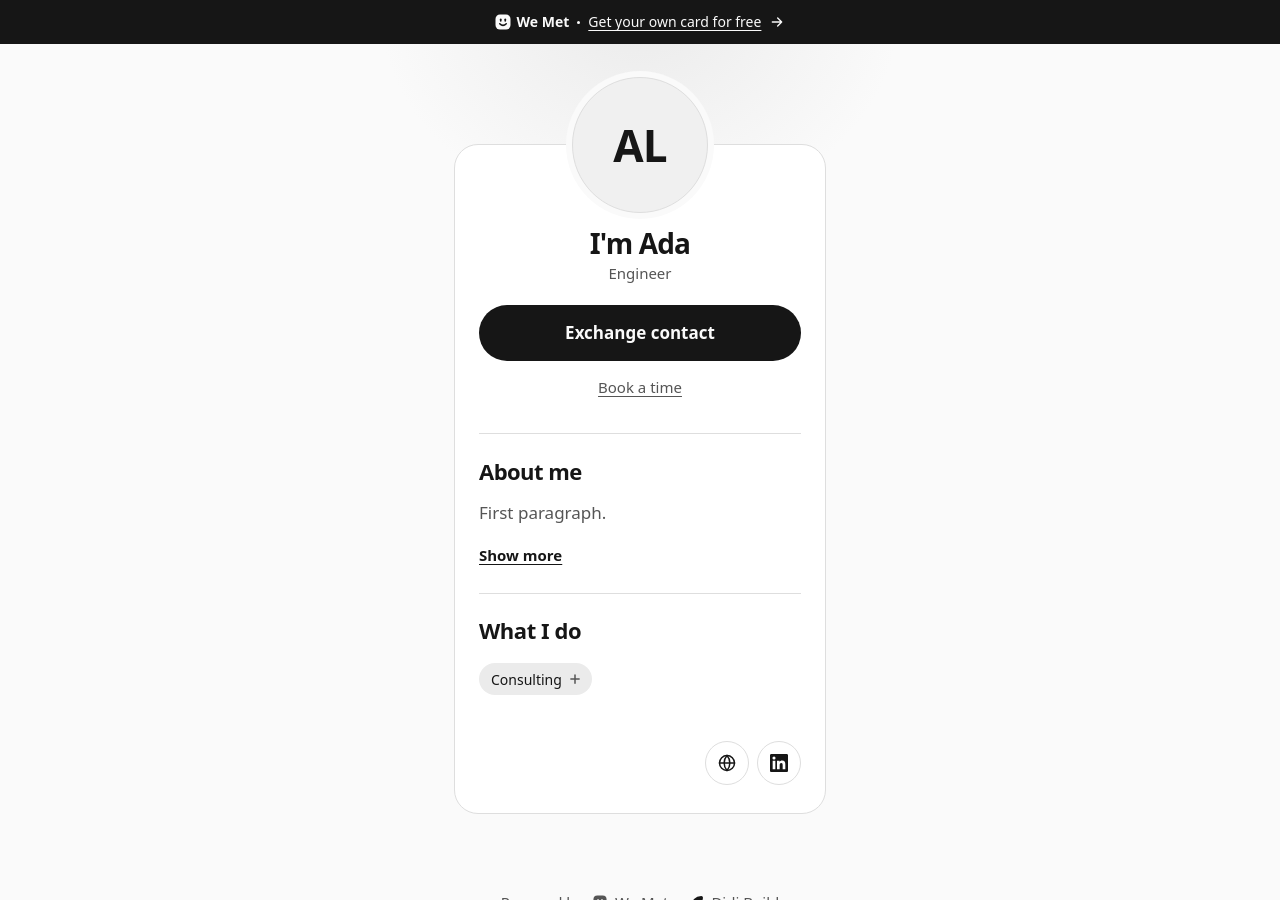
Scenario: AppCardPreview interaction (integration) › toggles About show more and show less
Expected: the text "Second paragraph for show more." is not shown
Click the button "Show more".
click(521, 555)  # box [479,533,562,577]
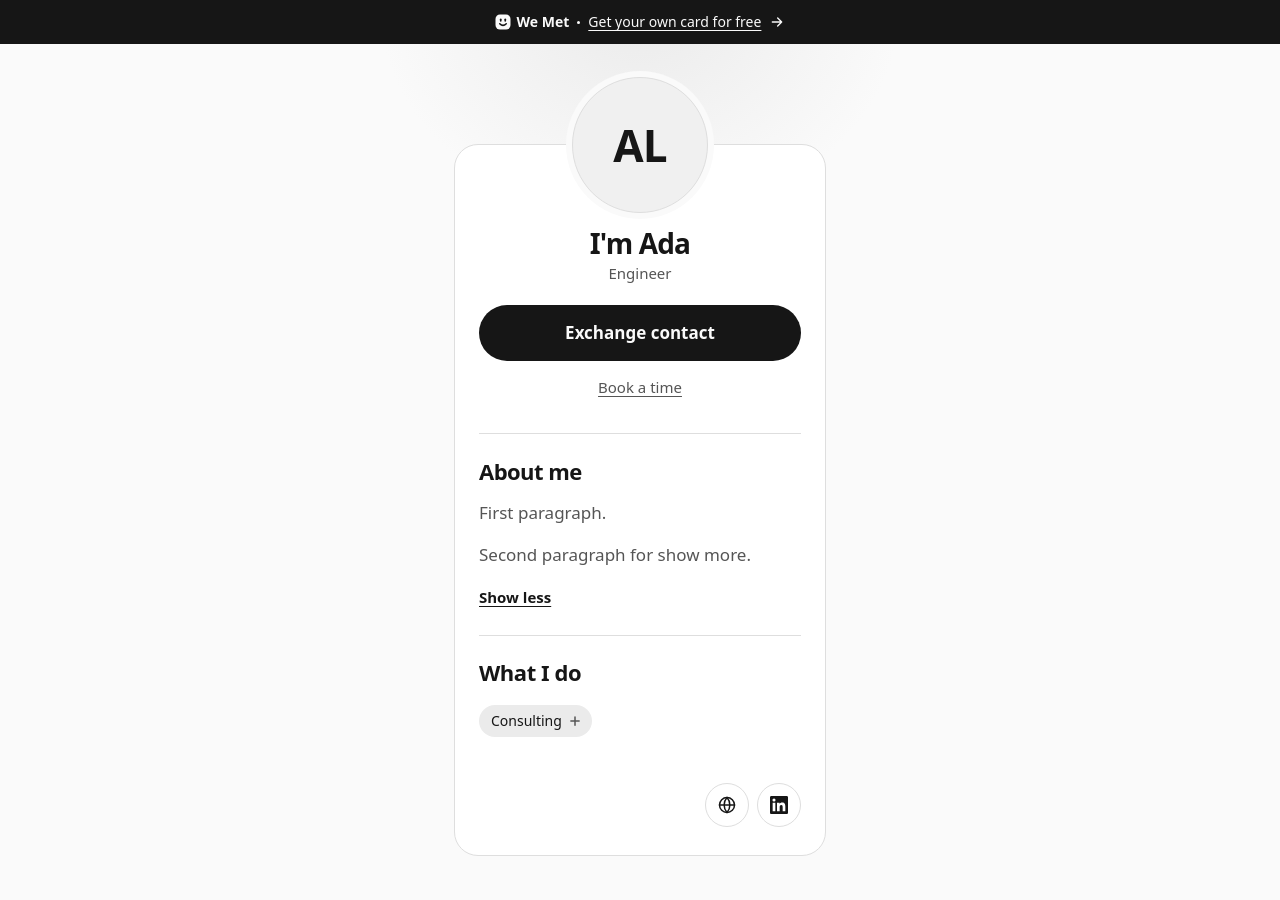
Expected: the text "Second paragraph for show more." is shown, [479,543,751,566]
Click the button "Show less".
click(515, 597)  # box [479,575,551,619]
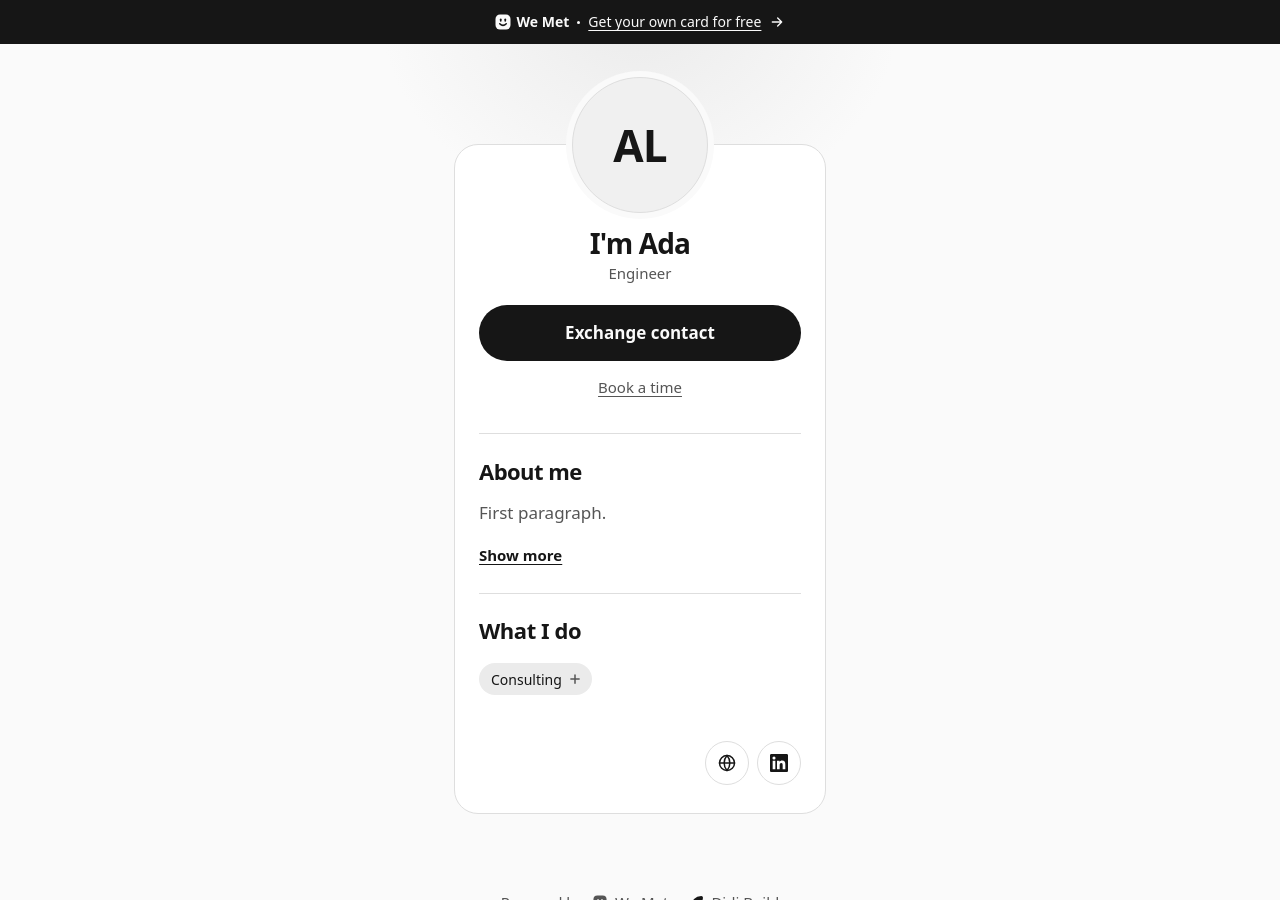
Expected: the text "Second paragraph for show more." is gone
